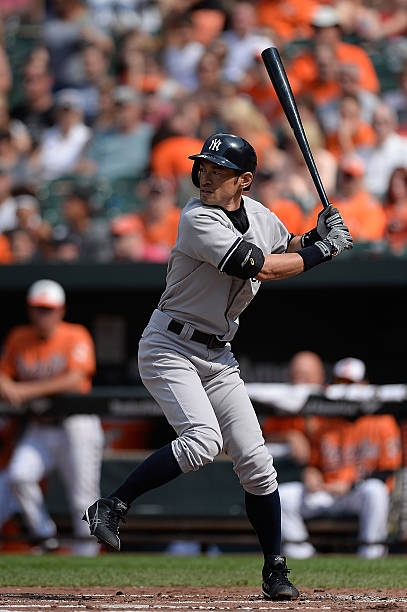bita: (263, 45, 337, 234)
